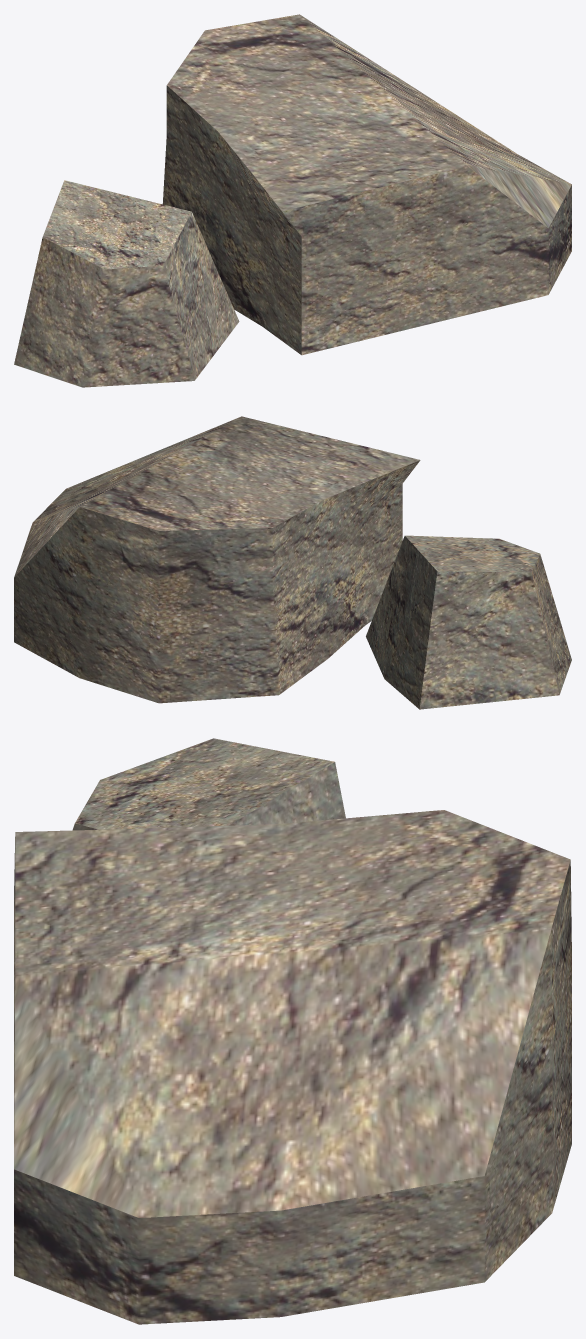
File: rock_02.fbx
The picture shows the model from 3 angles, top to bottom: view 1: azimuth 30°, elevation 25°; view 2: azimuth 150°, elevation 25°; view 3: azimuth 270°, elevation 25°; orthographic projection. The views are drawn at different scales.
Parts seen in each view (by area): view 1: pCube1, pCube2; view 2: pCube1, pCube2; view 3: pCube1, pCube2.
Part boxes in pixels (x1,y1,x2,y2): pCube1: (162,14,571,355); pCube2: (14,180,239,387); pCube1: (14,416,420,703); pCube2: (366,535,571,709); pCube1: (14,810,571,1324); pCube2: (72,738,345,830).
Bounding box in the file's own units: 5.97 × 1.9 × 3.38.
1 material, 1 textured.
